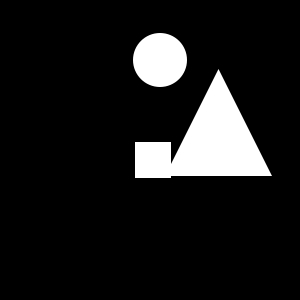circle: (135, 142, 171, 178)
rectangle: (133, 33, 187, 87)
triangle: (165, 69, 272, 176)
